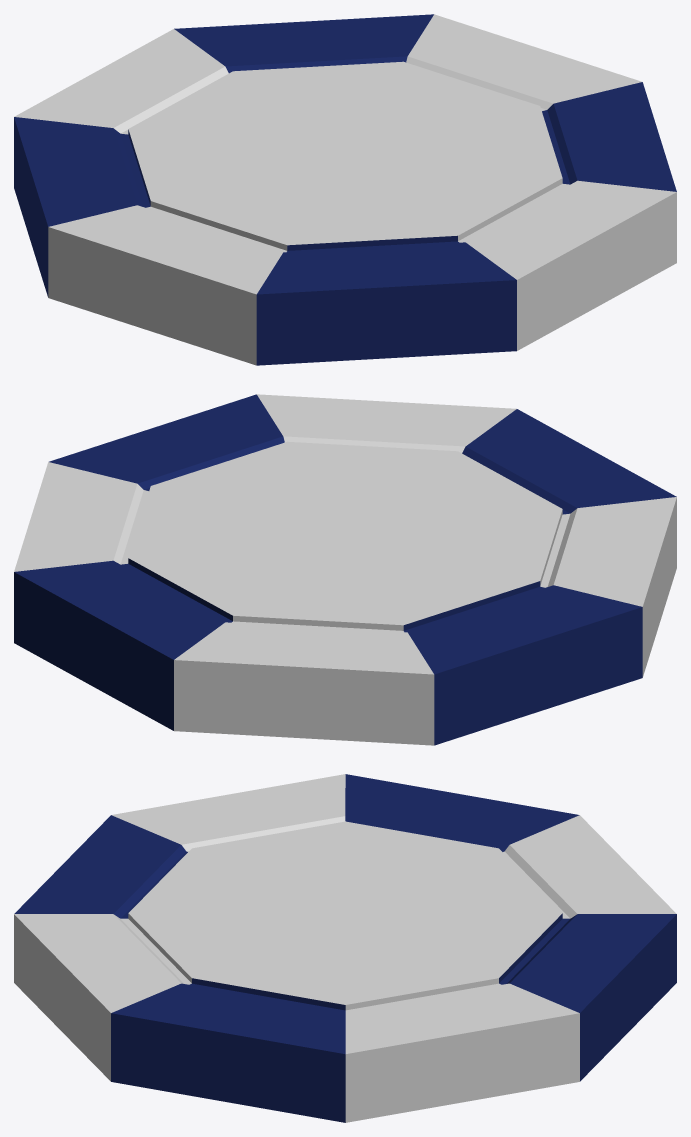
Rendered from Poker_Chip_White.fbx.
3 renders of one model, top to bottom at view 1: azimuth 30°, elevation 25°; view 2: azimuth 150°, elevation 25°; view 3: azimuth 270°, elevation 25°, orthographic. The views are drawn at different scales.
Parts seen in each view (by area): view 1: Base_Mesh_Poker_Chip_White; view 2: Base_Mesh_Poker_Chip_White; view 3: Base_Mesh_Poker_Chip_White.
Part boxes in pixels (box(x1,y1,x2,y2)): Base_Mesh_Poker_Chip_White: box(14, 14, 676, 365); Base_Mesh_Poker_Chip_White: box(14, 394, 676, 745); Base_Mesh_Poker_Chip_White: box(14, 774, 676, 1122).
Bounding box in the file's own units: 6.6 × 0.7888 × 6.6.
